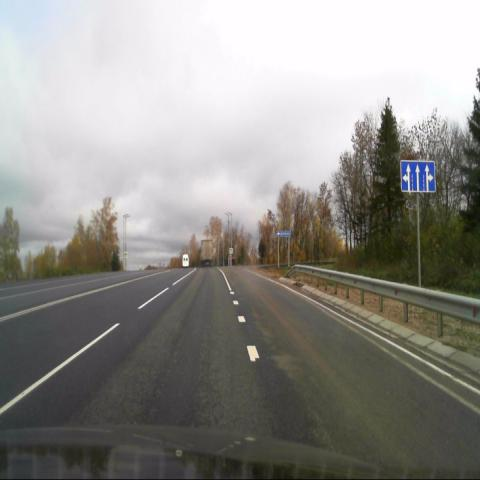5_15_1: (401, 161, 436, 193)
